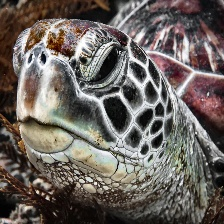seaturtle: (2, 19, 220, 219)
